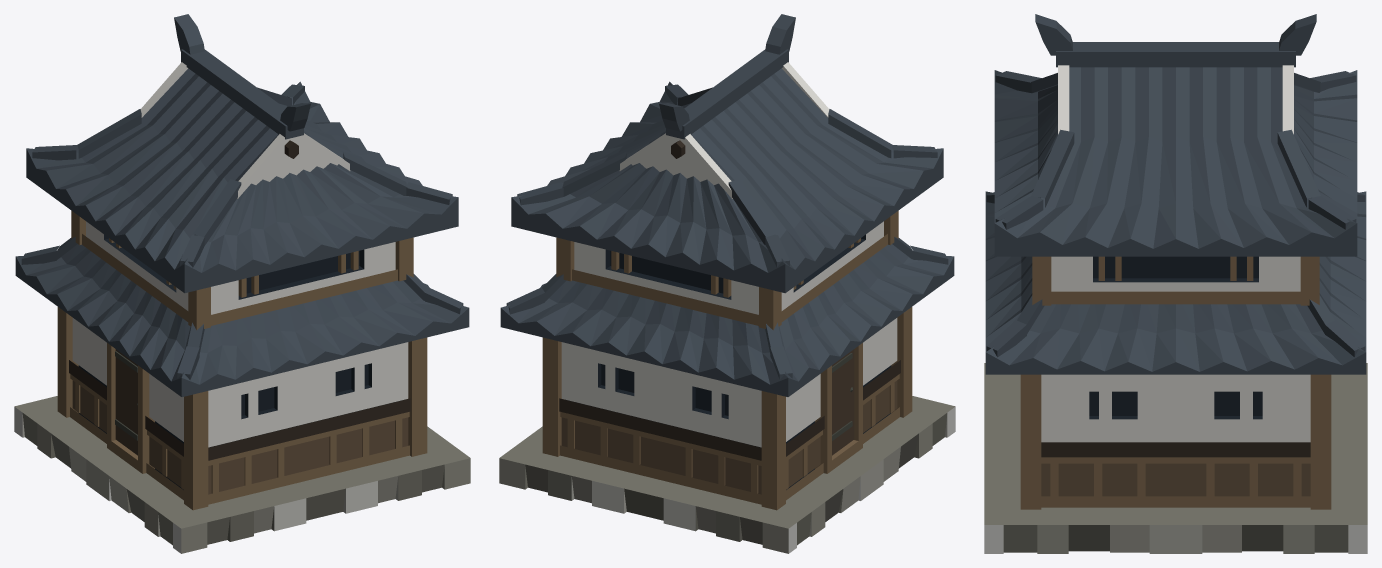
File: corner-yagura-turret-950468.glb
3 renders of one model, left to right at view 1: azimuth 30°, elevation 25°; view 2: azimuth 150°, elevation 25°; view 3: azimuth 270°, elevation 25°, orthographic. The views are drawn at different scales.
Visible parts, largest first — view 1: corner-yagura-turret, door; view 2: corner-yagura-turret, door; view 3: corner-yagura-turret.
Part boxes in pixels (box(x1,y1,x2,y2)): corner-yagura-turret: box(14, 14, 470, 553); door: box(115, 349, 137, 455); corner-yagura-turret: box(499, 14, 955, 553); door: box(832, 349, 854, 455); corner-yagura-turret: box(984, 14, 1367, 553).
Bounding box in the file's own units: 6 × 7.86 × 6.
